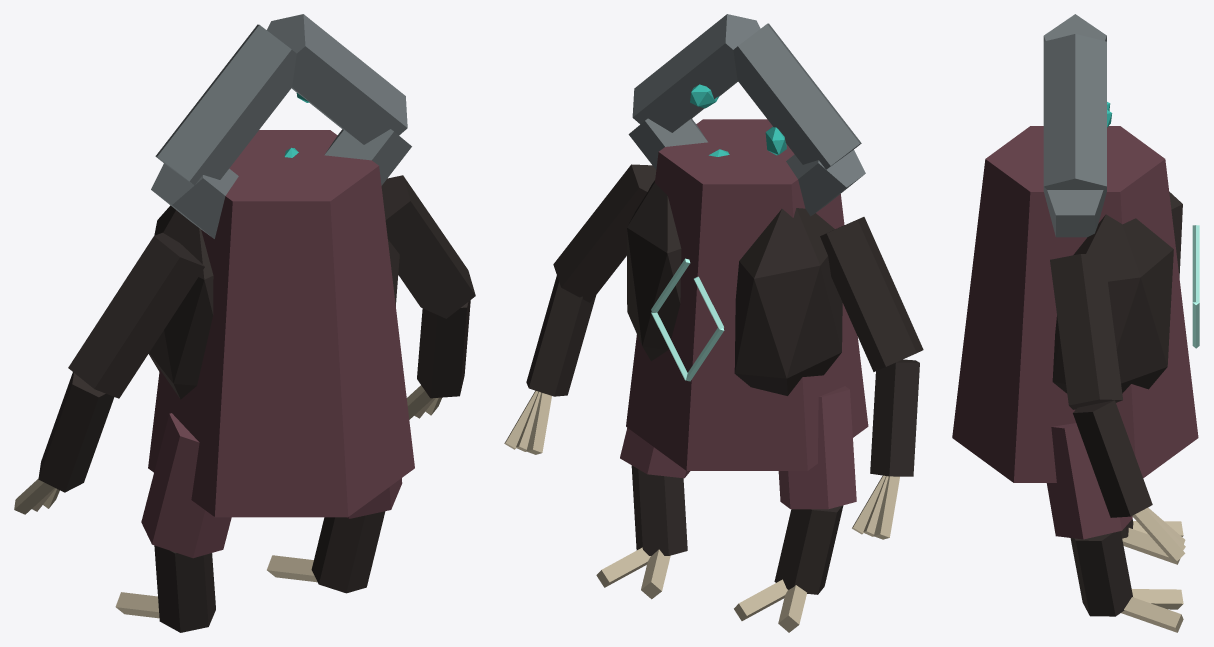
The model's file is Monster_2.fbx.
3 renders of one model, left to right at view 1: azimuth 30°, elevation 25°; view 2: azimuth 150°, elevation 25°; view 3: azimuth 270°, elevation 25°, orthographic. The views are drawn at different scales.
Parts seen in each view (by area): view 1: Body, Head, ArmR, LegR, ArmL, LegL; view 2: Body, Head, ArmR, ArmL, LegR, LegL; view 3: Body, ArmL, Head, LegL, LegR.
Boxes of the visible parts, x1,y1,x2,y2 form: Body: (148,130,414,517); Head: (151,14,411,238); ArmR: (14,232,204,514); LegR: (115,413,231,632); ArmL: (381,175,475,419); LegL: (267,478,402,593); Body: (626,119,868,470); Head: (628,14,865,216); ArmR: (820,217,923,539); ArmL: (504,164,656,454); LegR: (734,386,856,632); LegL: (596,428,690,599); Body: (952,126,1199,482); ArmL: (1050,254,1185,562); Head: (1043,14,1112,237); LegL: (1046,423,1183,632); LegR: (1121,519,1183,564).
Bounding box in the file's own units: 0.8765 × 1.2 × 0.478.
1 material, 1 textured.
